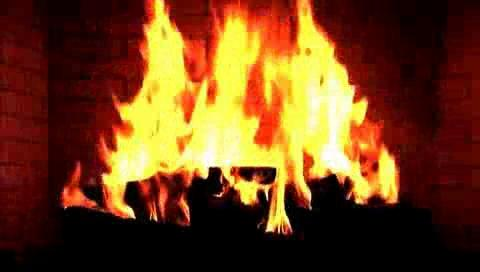fire: (98, 11, 373, 210)
